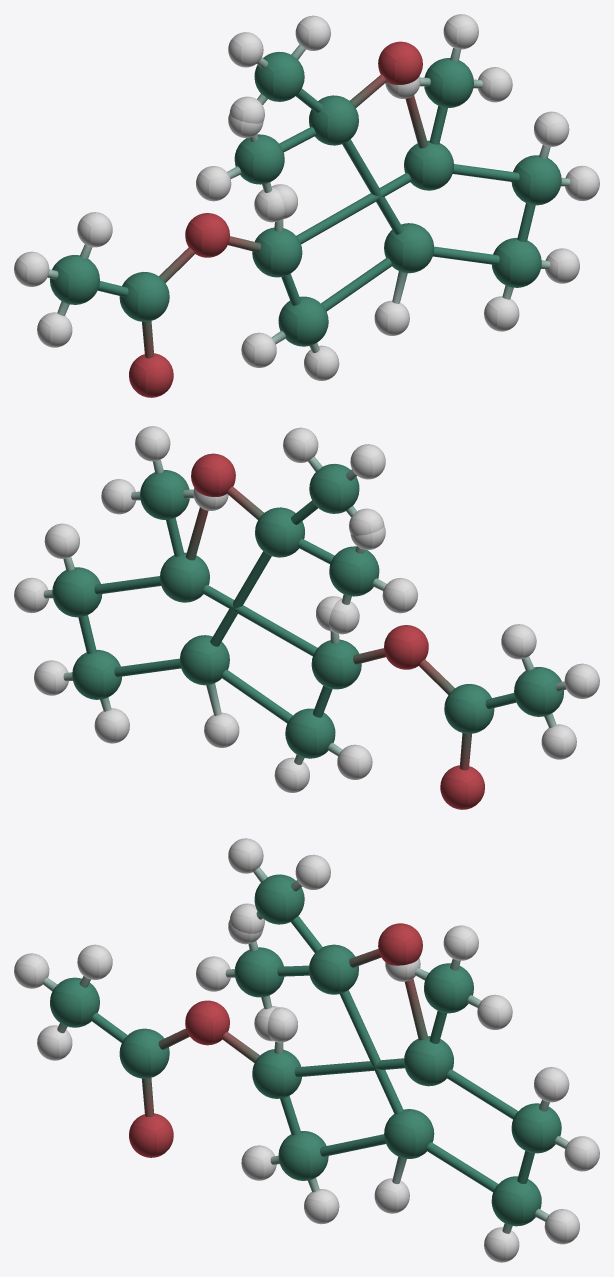
The model's file is 1,8-cineole.fbx.
3 renders of one model, top to bottom at view 1: azimuth 30°, elevation 25°; view 2: azimuth 150°, elevation 25°; view 3: azimuth 330°, elevation 25°, orthographic.
Visible parts, largest first — view 1: curMeshHyperballExportedMesh; view 2: curMeshHyperballExportedMesh; view 3: curMeshHyperballExportedMesh.
Boxes of the visible parts, left/top/right/bottom form: curMeshHyperballExportedMesh: left=14, top=14, right=599, bottom=397; curMeshHyperballExportedMesh: left=14, top=426, right=599, bottom=809; curMeshHyperballExportedMesh: left=14, top=838, right=599, bottom=1262.
Bounding box in the file's own units: 7.56 × 4.53 × 0.5667.
